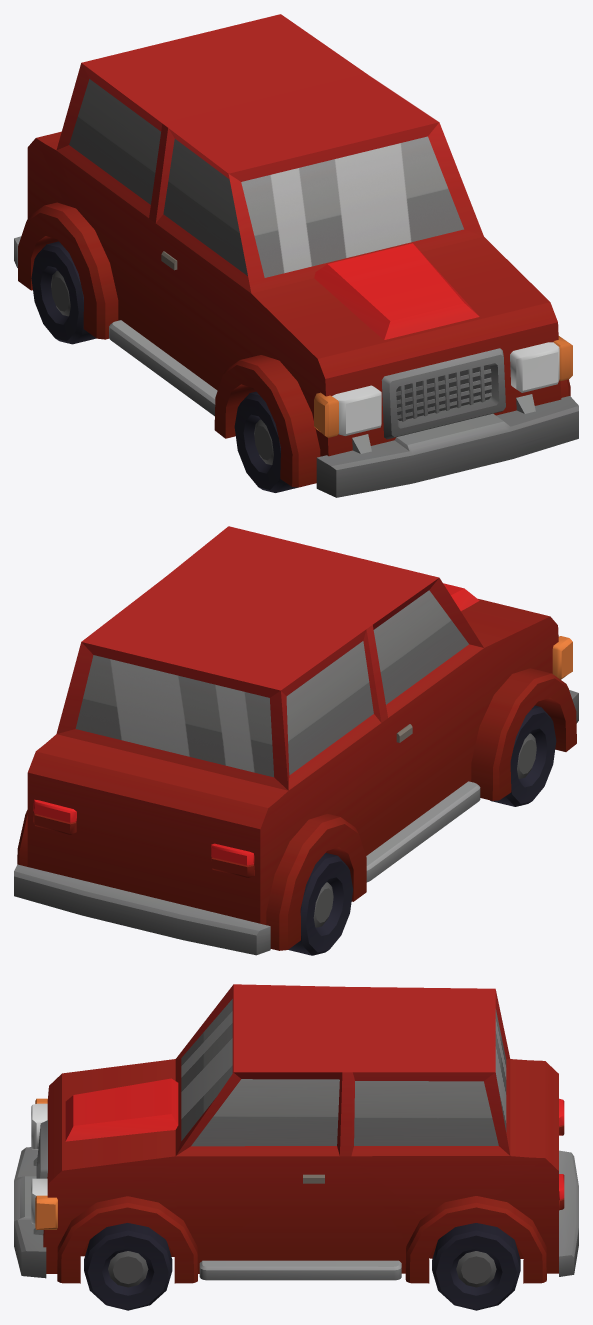
The model's file is Car_3_4.fbx.
The picture shows the model from 3 angles, top to bottom: view 1: azimuth 30°, elevation 25°; view 2: azimuth 150°, elevation 25°; view 3: azimuth 270°, elevation 25°; orthographic projection. The views are drawn at different scales.
Parts seen in each view (by area): view 1: Car_3_4, Wheel_Br, Wheel_Fr; view 2: Car_3_4, Wheel_Br, Wheel_Fr; view 3: Car_3_4, Wheel_Bl, Wheel_Fl.
Part boxes in pixels (x1=…): Car_3_4: x1=14, y1=14, x2=578, y2=497; Wheel_Br: x1=31, y1=241, x2=96, y2=344; Wheel_Fr: x1=234, y1=391, x2=297, y2=492; Car_3_4: x1=14, y1=526, x2=578, y2=955; Wheel_Br: x1=288, y1=853, x2=353, y2=955; Wheel_Fr: x1=490, y1=705, x2=556, y2=806; Car_3_4: x1=14, y1=984, x2=578, y2=1283; Wheel_Bl: x1=432, y1=1223, x2=520, y2=1310; Wheel_Fl: x1=84, y1=1223, x2=172, y2=1310.
Size of the model in its own units: 1.13 by 1.02 by 2.3.
